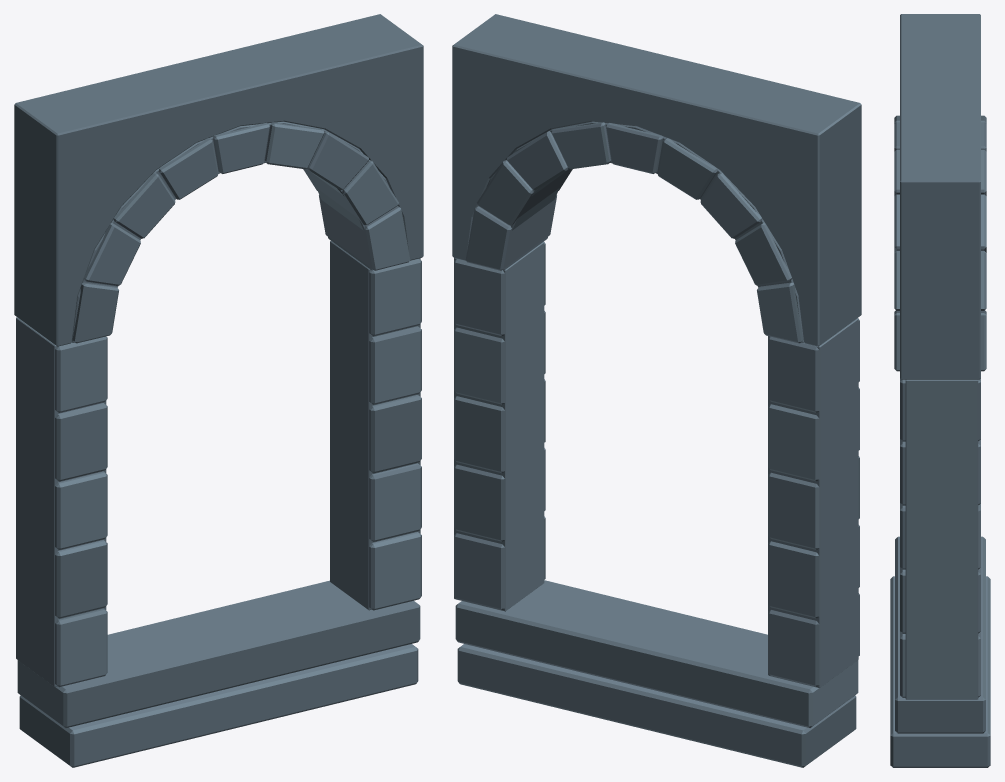
File: EH_ArchedEntry_2m.fbx
3 views of the same model, side by side, from view 1: azimuth 30°, elevation 25°; view 2: azimuth 150°, elevation 25°; view 3: azimuth 270°, elevation 25° (orthographic). The views are drawn at different scales.
Parts seen in each view (by area): view 1: EH_ArchedEntry_2m; view 2: EH_ArchedEntry_2m; view 3: EH_ArchedEntry_2m.
Part boxes in pixels (x1,y1,x2,y2): EH_ArchedEntry_2m: (14, 14, 423, 767); EH_ArchedEntry_2m: (452, 14, 861, 767); EH_ArchedEntry_2m: (890, 14, 990, 767).
Bounding box in the file's own units: 1.66 × 2.74 × 0.42.
